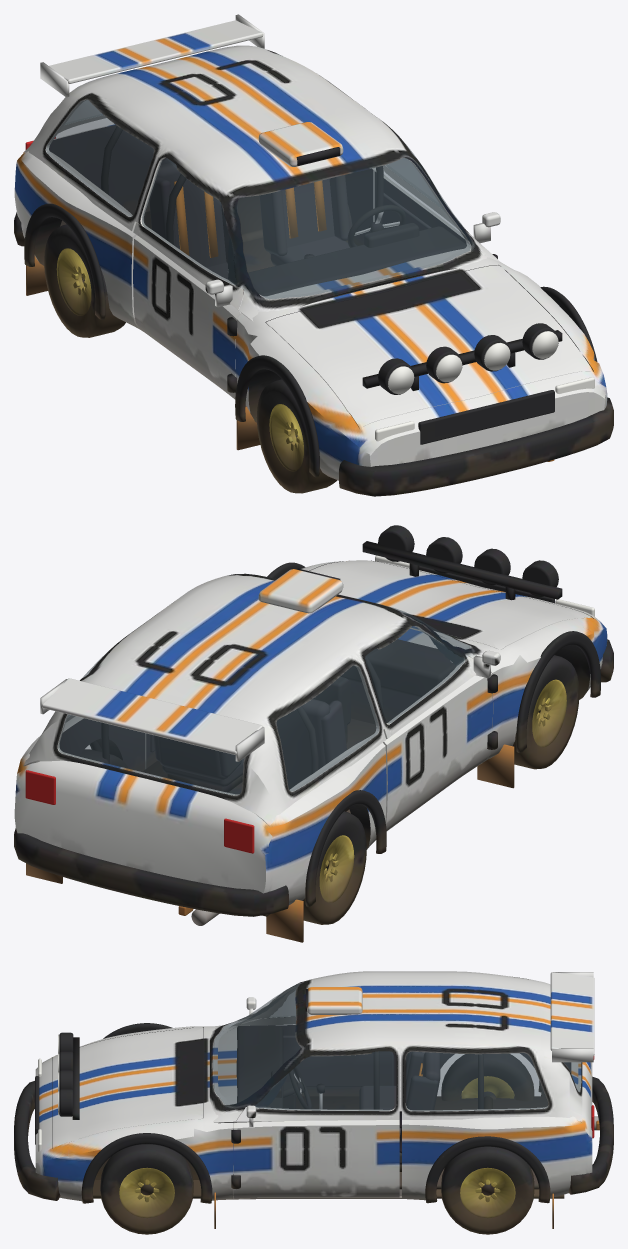
File: rally-car.glb
The picture shows the model from 3 angles, top to bottom: view 1: azimuth 30°, elevation 25°; view 2: azimuth 150°, elevation 25°; view 3: azimuth 270°, elevation 25°; orthographic projection. The views are drawn at different scales.
Visible parts, largest first — view 1: cabin, body, hood, glass_windscreen, door_r, bumper_front, glass_quarter_r, glass_door_r, dash, spoiler, grille, wheel_rr_tyre (+20 smaller); view 2: body, cabin, door_r, hood, bumper_rear, glass_rear, glass_quarter_r, spoiler, glass_door_r, dash, wheel_fr_tyre, wheel_rr_tyre (+22 smaller); view 3: cabin, body, door_l, hood, glass_quarter_l, glass_door_l, glass_windscreen, wheel_fl_tyre, wheel_rl_tyre, spoiler, door_card_r, dash (+22 smaller).
Part boxes in pixels (<box>): cabin: <box>23,45,499,321</box>; body: <box>14,124,607,480</box>; hood: <box>266,265,593,428</box>; glass_windscreen: <box>236,158,470,299</box>; door_r: <box>133,222,243,399</box>; bumper_front: <box>339,397,613,496</box>; glass_quarter_r: <box>46,99,153,216</box>; glass_door_r: <box>141,158,237,284</box>; dash: <box>248,226,466,296</box>; spoiler: <box>49,20,263,83</box>; grille: <box>418,390,554,444</box>; wheel_rr_tyre: <box>44,224,125,337</box>; body: <box>14,560,607,904</box>; cabin: <box>23,573,484,825</box>; door_r: <box>383,656,492,830</box>; hood: <box>309,560,592,649</box>; bumper_rear: <box>14,828,288,916</box>; glass_rear: <box>58,714,244,795</box>; glass_quarter_r: <box>276,665,378,791</box>; spoiler: <box>42,678,262,754</box>; glass_door_r: <box>365,626,464,723</box>; dash: <box>341,639,456,697</box>; wheel_fr_tyre: <box>513,655,579,769</box>; wheel_rr_tyre: <box>302,811,366,924</box>; cabin: <box>209,971,582,1123</box>; body: <box>35,1026,592,1201</box>; door_l: <box>233,1107,399,1198</box>; hood: <box>53,1027,203,1148</box>; glass_quarter_l: <box>406,1051,547,1111</box>; glass_door_l: <box>255,1051,394,1110</box>; glass_windscreen: <box>213,983,300,1104</box>; wheel_fl_tyre: <box>100,1144,193,1234</box>; wheel_rl_tyre: <box>441,1146,534,1234</box>; spoiler: <box>550,972,594,1055</box>; door_card_r: <box>283,1035,393,1086</box>; dash: <box>236,1026,283,1108</box>.
Size of the model in its own units: 1.94 by 1.49 by 4.31.
Materials: 4 (1 with a texture image).
